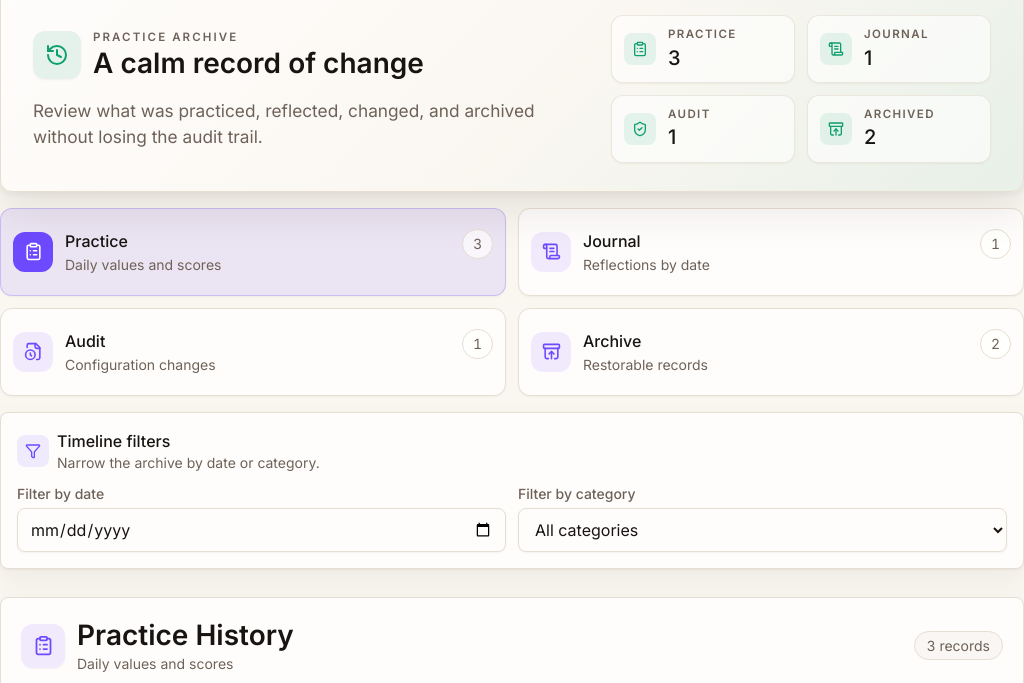
it: HistoryScreen › shows audit logs with entity and old/new values
Click the button with aria-label "Audit Log" at (33, 352), box [0,308,506,396]
(page scrolled)
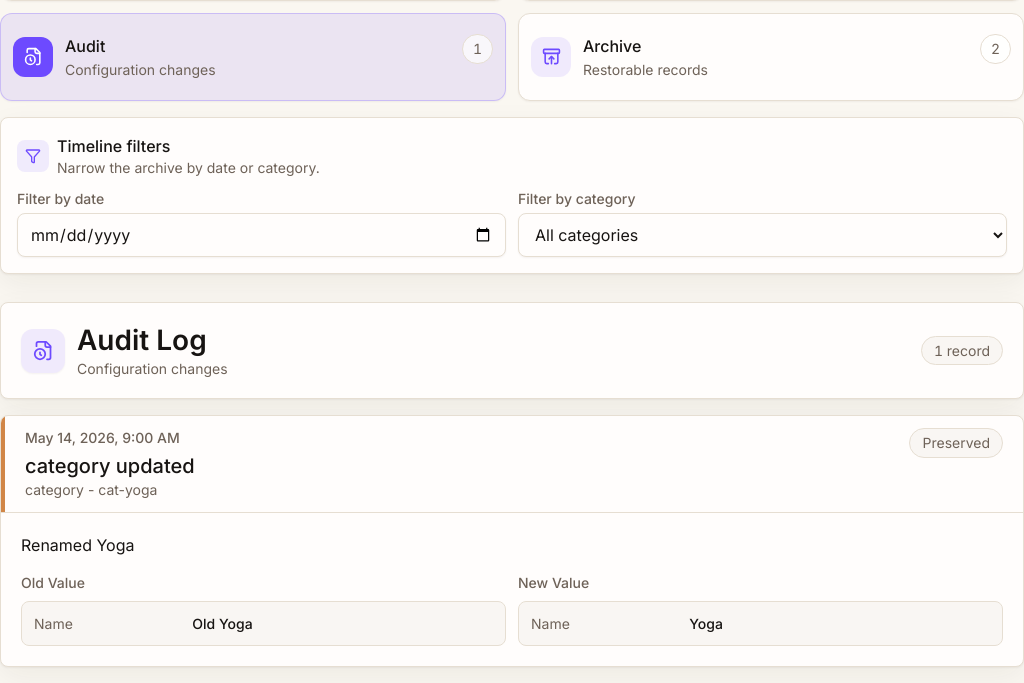
Expected: the heading "category updated" is shown, [25,452,195,480]
Expected: the text "category - cat-yoga" is shown, [25,481,158,498]
Expected: the text "Old Yoga" is shown, [192,614,253,632]
